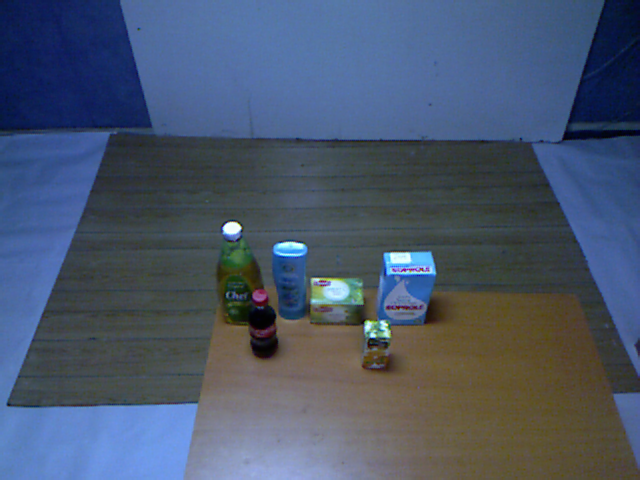aceite: (209, 221, 271, 332)
balsamo: (266, 240, 314, 324)
coca: (242, 287, 284, 360)
jugoind: (359, 316, 397, 376)
leche: (371, 247, 441, 330)
te: (303, 271, 371, 329)
